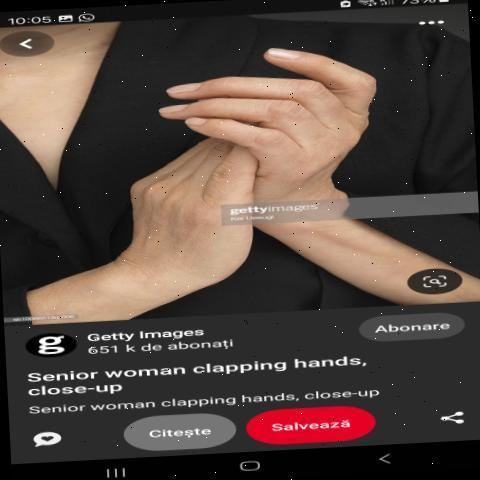Hands: (156, 29, 418, 197)
